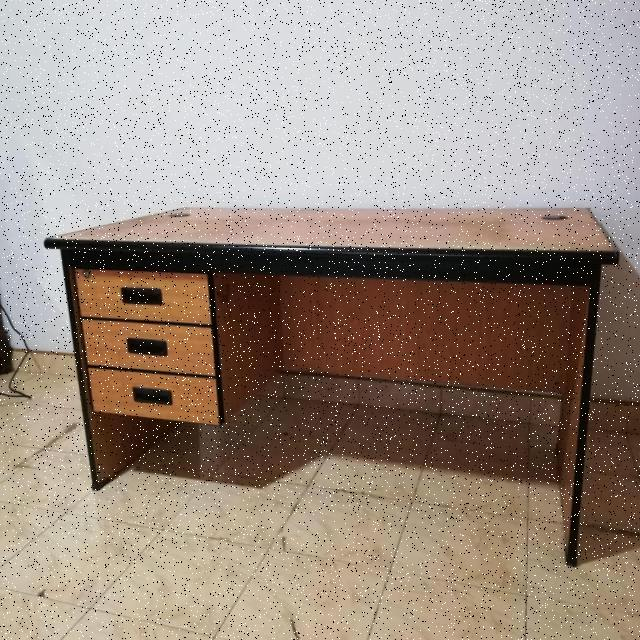mobile-phone: (35, 202, 614, 564)
